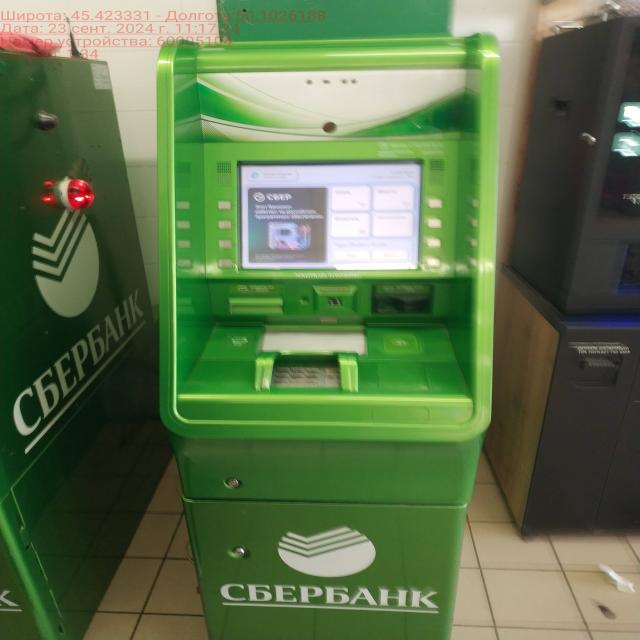bank: (157, 26, 494, 640), (0, 41, 156, 640)
